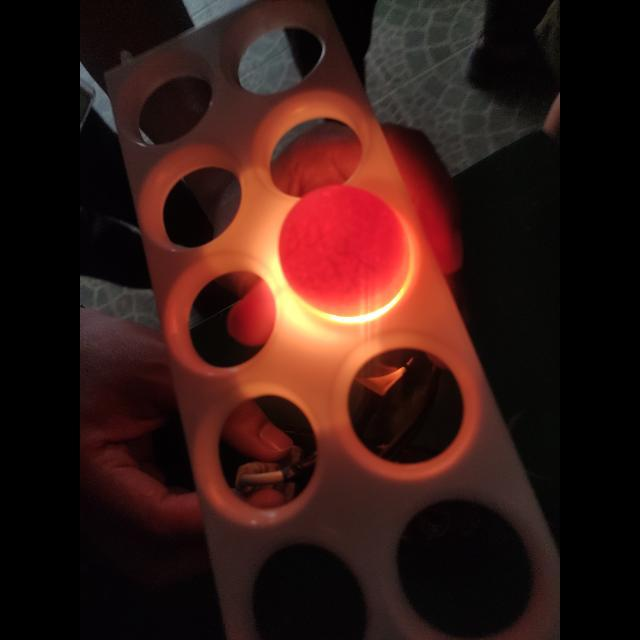A - Good: (278, 185, 414, 311)
